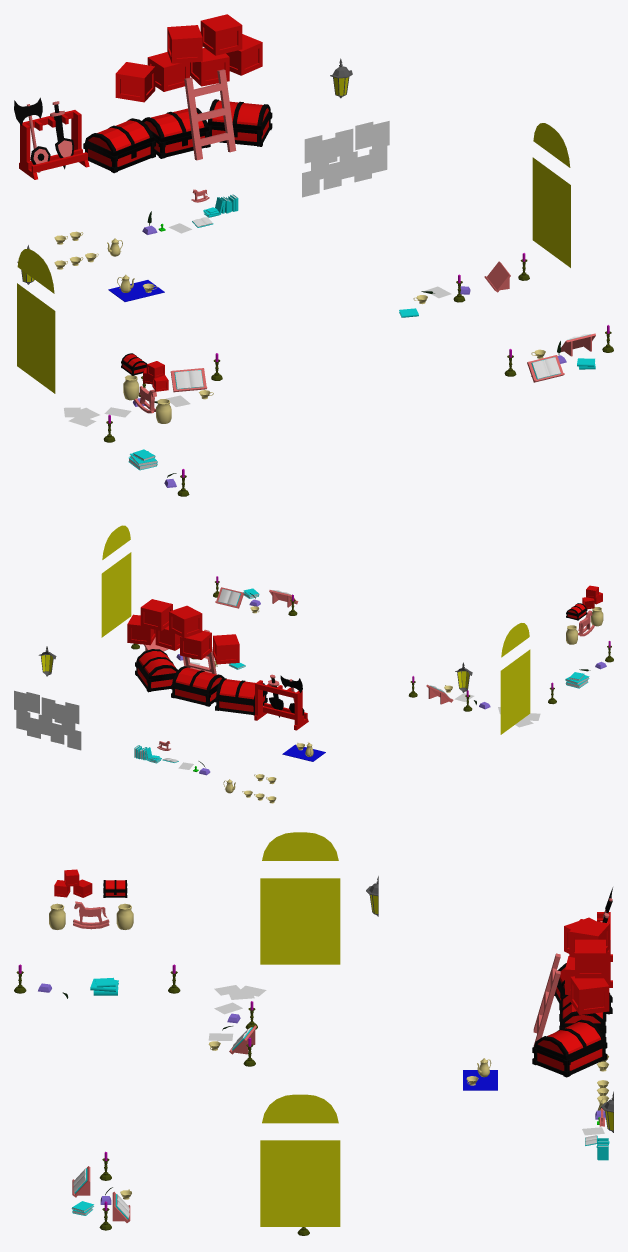
3 renders of one model, top to bottom at view 1: azimuth 30°, elevation 25°; view 2: azimuth 150°, elevation 25°; view 3: azimuth 270°, elevation 25°, orthographic. The views are drawn at different scales.
Visible parts, largest first — view 1: Object01; view 2: Object01; view 3: Object01.
Boxes of the visible parts, <box> form: Object01: <box>14,14,613,496</box>; Object01: <box>14,525,613,803</box>; Object01: <box>14,832,613,1235</box>.
Size of the model in its own units: 198 by 77.72 by 191.
